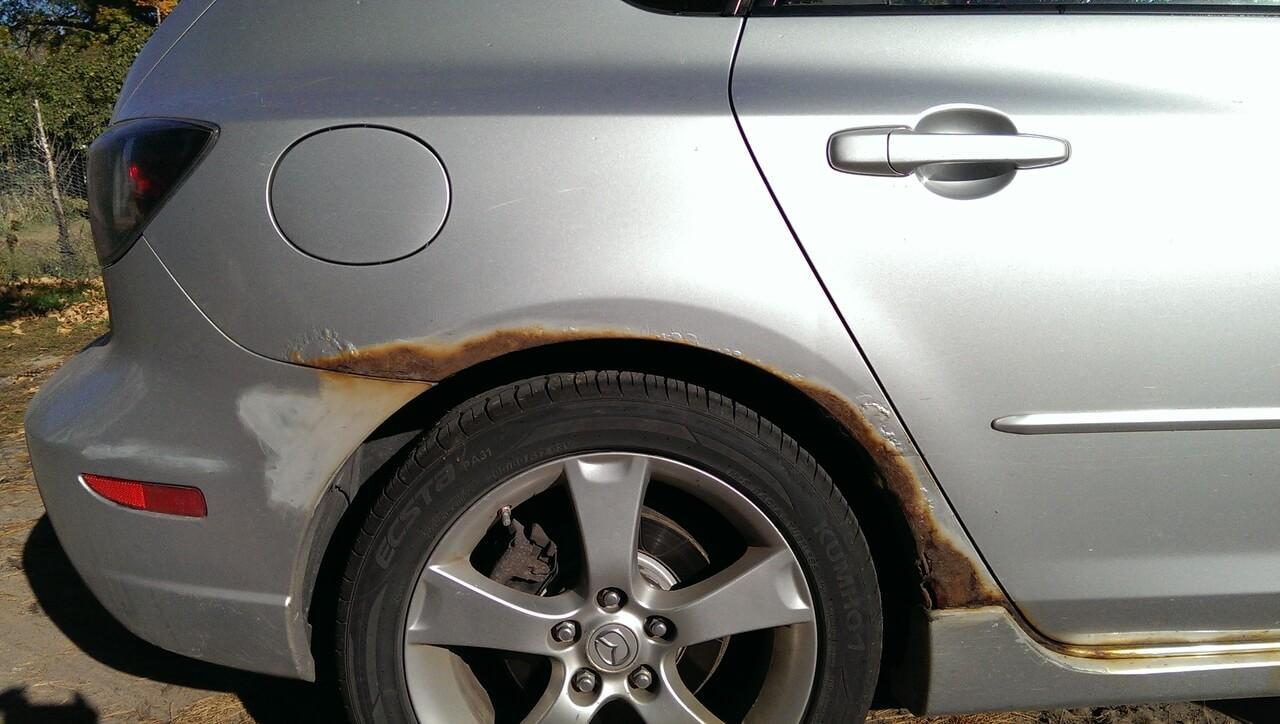corrosion: (844, 427, 1031, 633), (272, 325, 650, 387), (796, 367, 913, 448)
